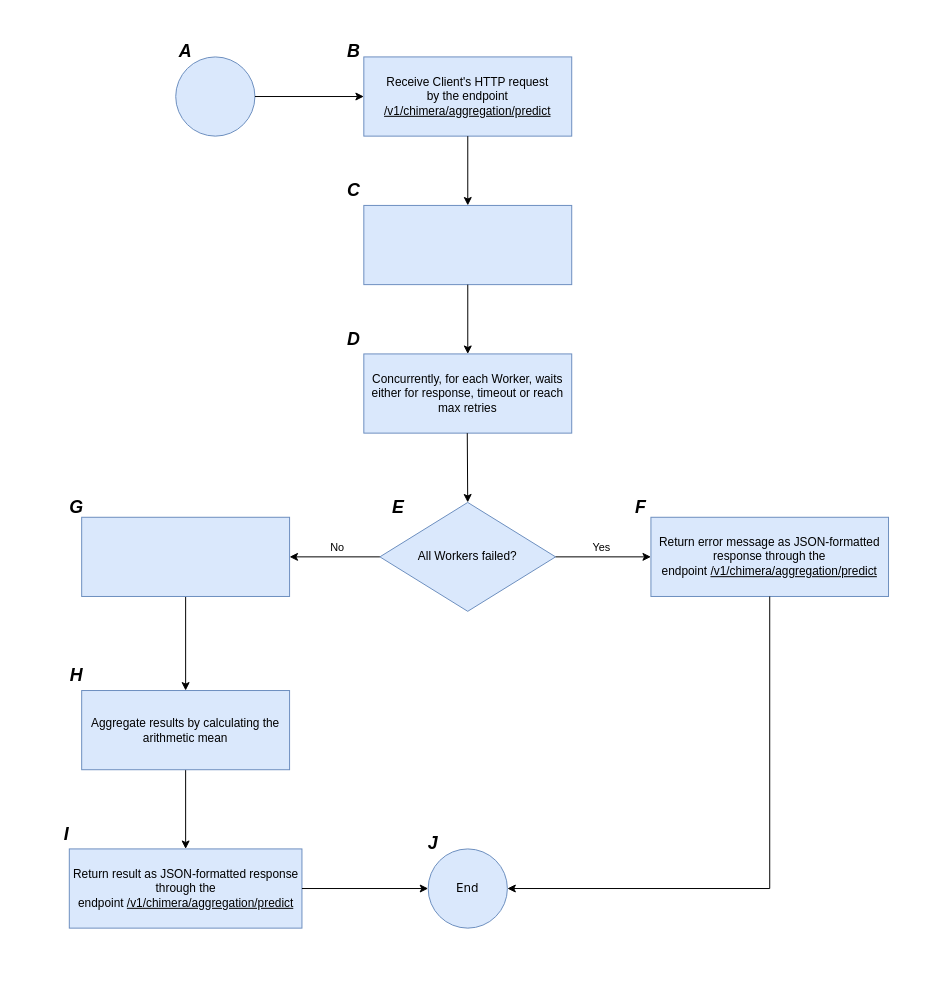
Image size: 935x994. Some labels were removed from this diagram. The shapes that lost their labels are listed below. From the top down, each one's box as (x1, y1, x2, y2) in pixels, then its label:
(175, 56, 255, 136): Beginning
(363, 204, 572, 285): Request predict to each Worker through the endpoint /v1/chimera/model/predict
(81, 516, 290, 596): Receive results from the responsive workers (status code 200)
